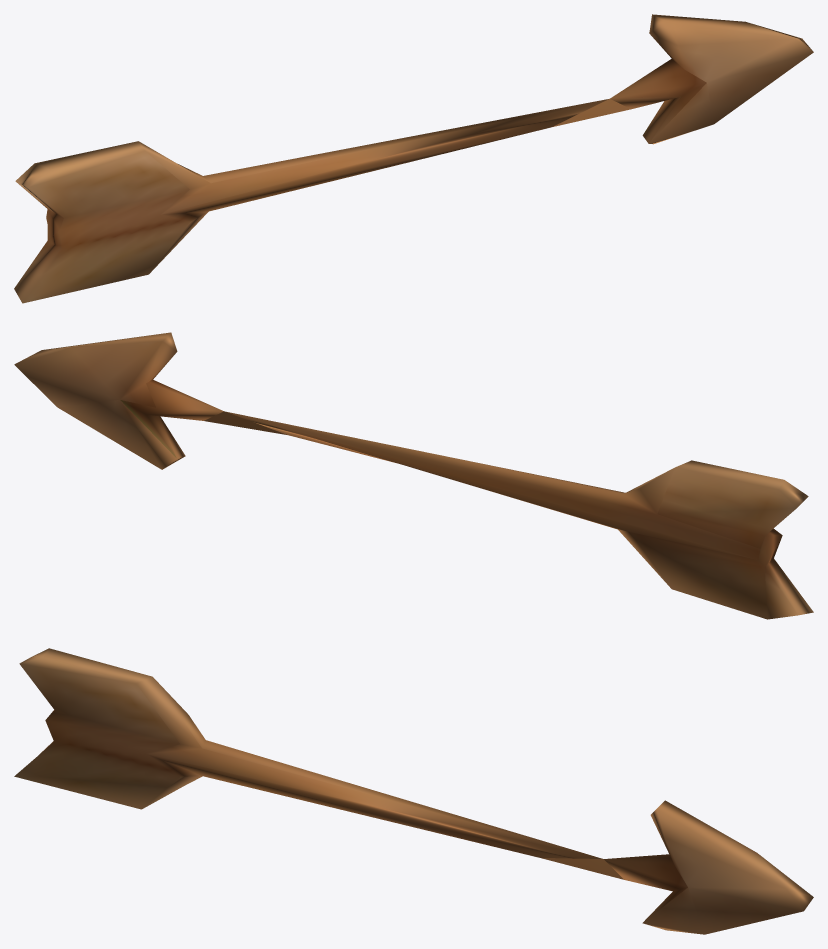
Rendered from Arrow.glb.
The picture shows the model from 3 angles, top to bottom: view 1: azimuth 30°, elevation 25°; view 2: azimuth 150°, elevation 25°; view 3: azimuth 330°, elevation 25°; orthographic projection.
Visible parts, largest first — view 1: Arrow; view 2: Arrow; view 3: Arrow.
Boxes of the visible parts, x1,y1,x2,y2 form: Arrow: (14,14,813,303); Arrow: (14,332,813,619); Arrow: (14,648,813,934).
Size of the model in its own units: 1 by 0.1603 by 0.0444.
Materials: 1 (1 with a texture image).
